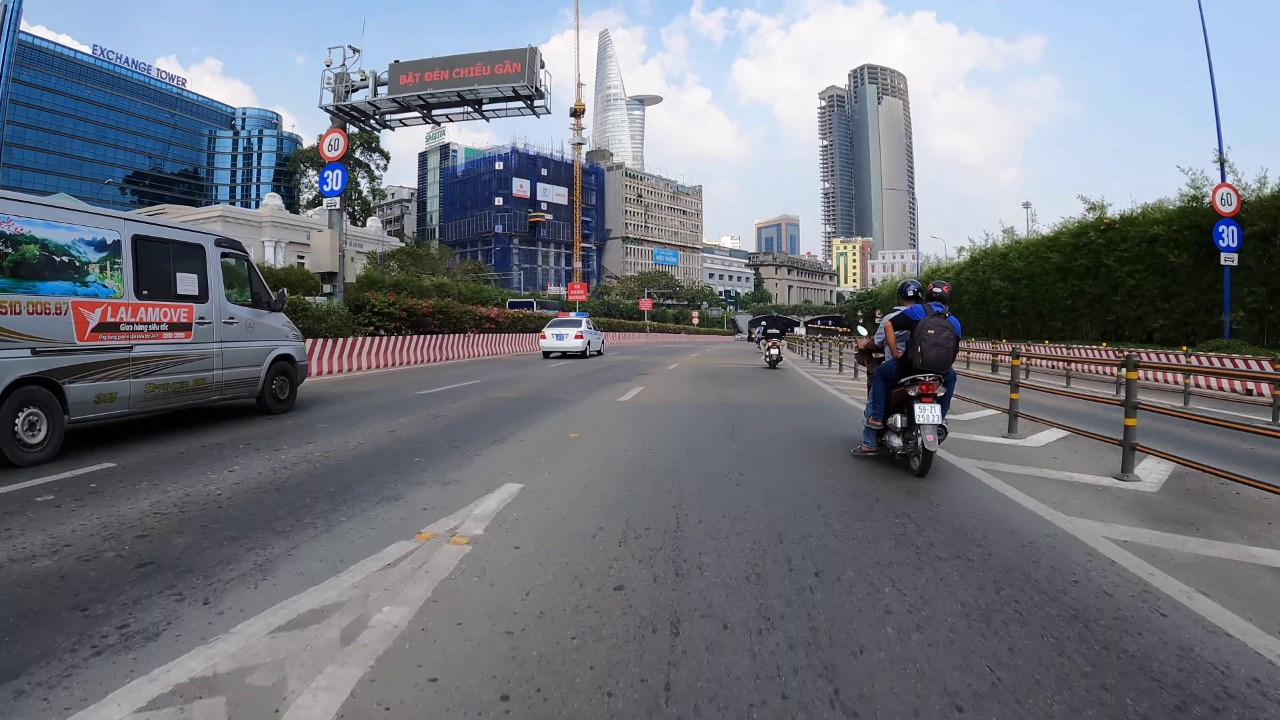gioi_han_60km: (1208, 180, 1244, 220), (316, 125, 352, 163)
